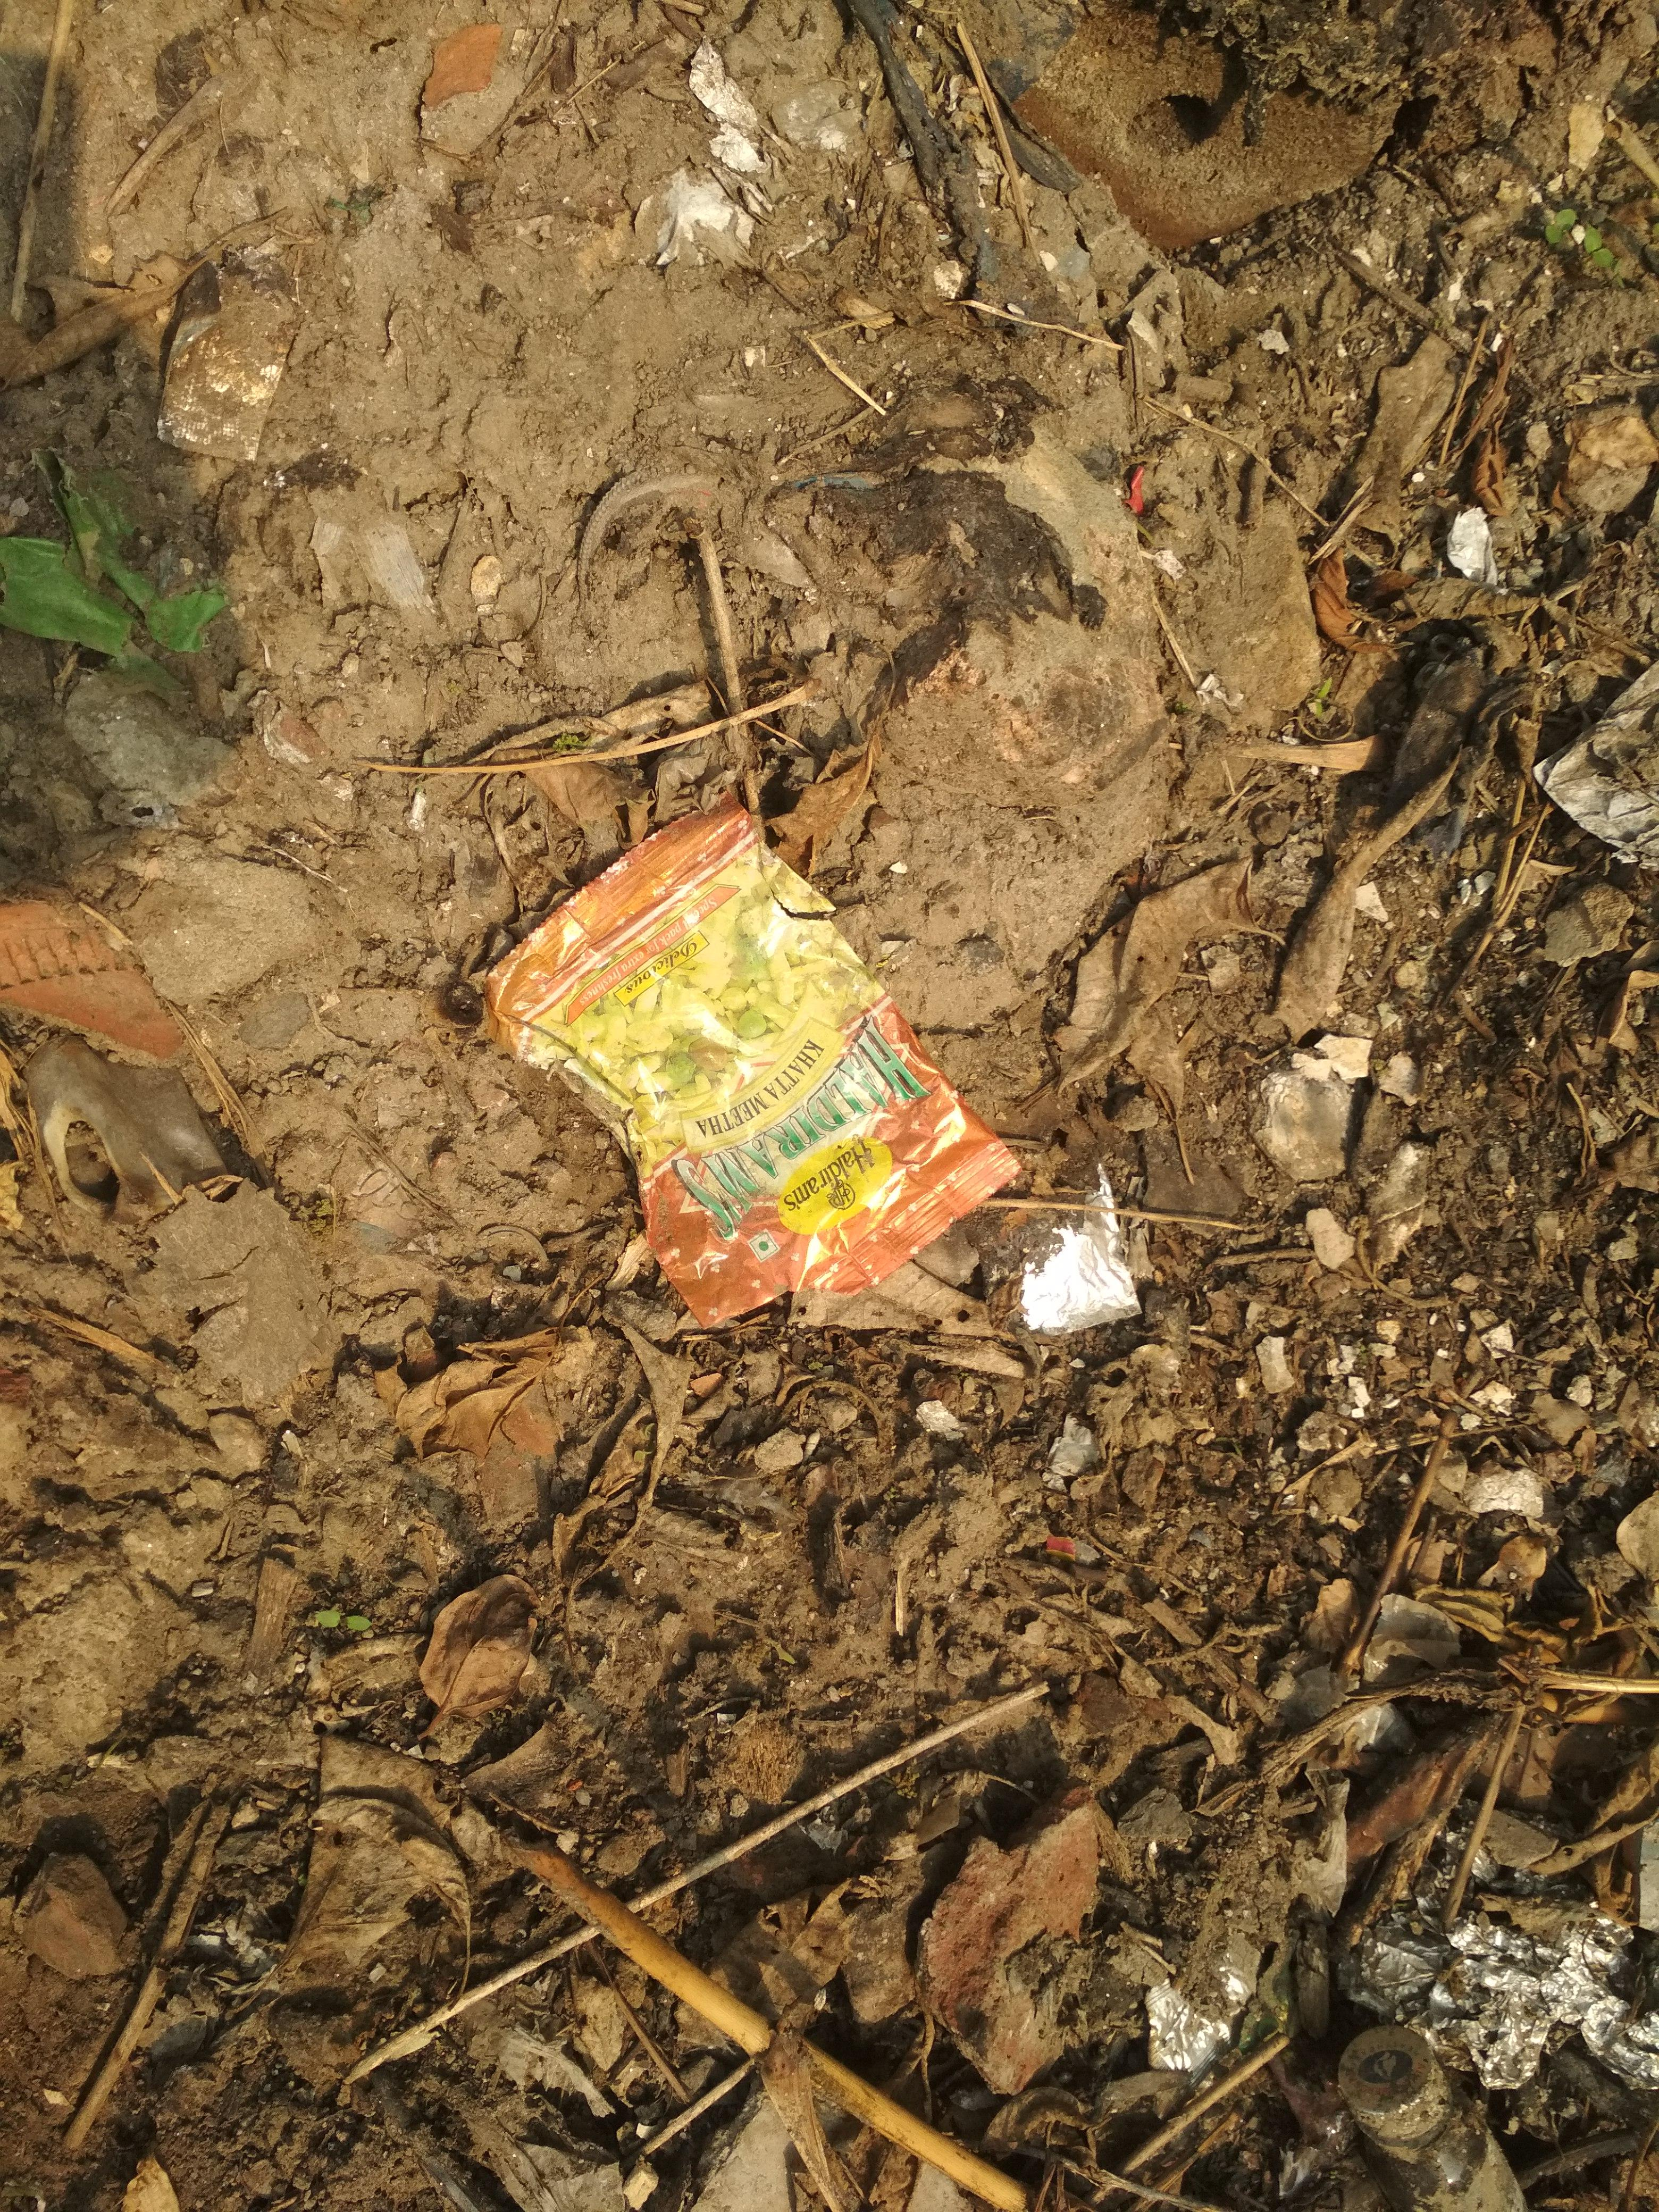trash: (476, 786, 1051, 1369)
